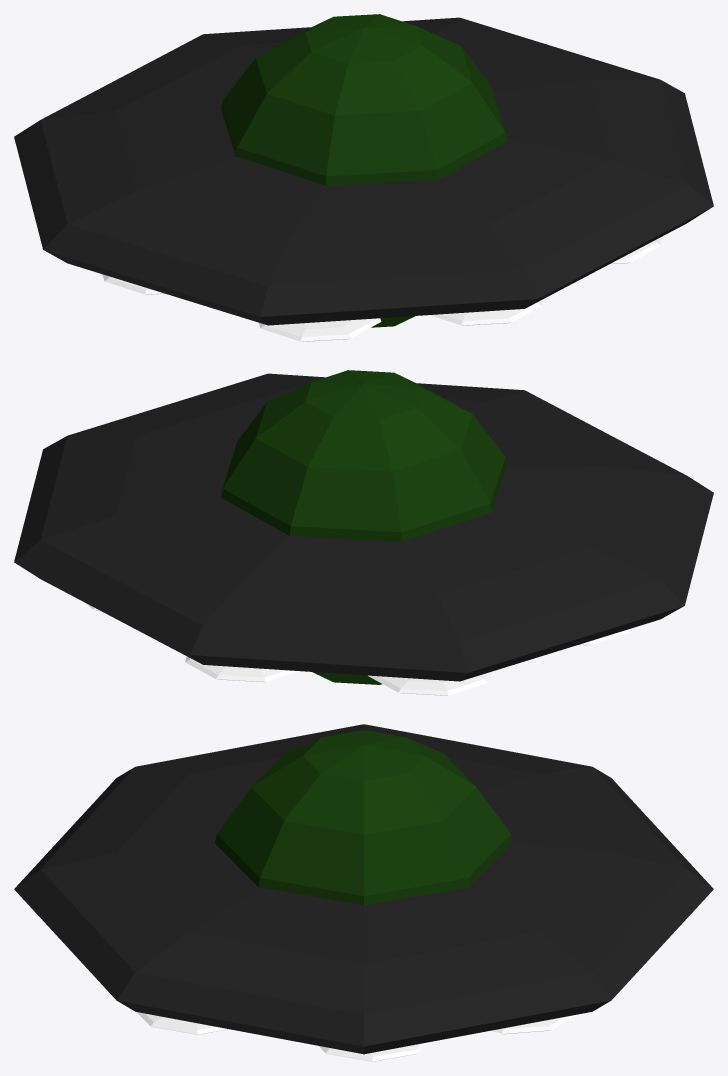
File: spaceship.fbx
3 views of the same model, one above another, from view 1: azimuth 30°, elevation 25°; view 2: azimuth 150°, elevation 25°; view 3: azimuth 270°, elevation 25° (orthographic).
Visible parts, largest first — view 1: Spaceship; view 2: Spaceship; view 3: Spaceship.
Boxes of the visible parts, x1,y1,x2,y2 form: Spaceship: (14, 14, 713, 341); Spaceship: (14, 370, 713, 695); Spaceship: (14, 724, 713, 1061).
Bounding box in the file's own units: 468 × 200 × 440.
